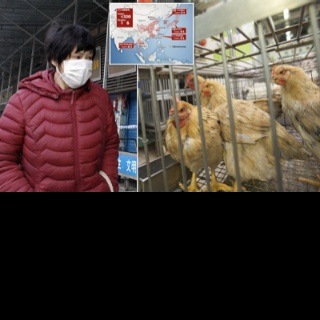with_mask: (59, 49, 96, 89)
